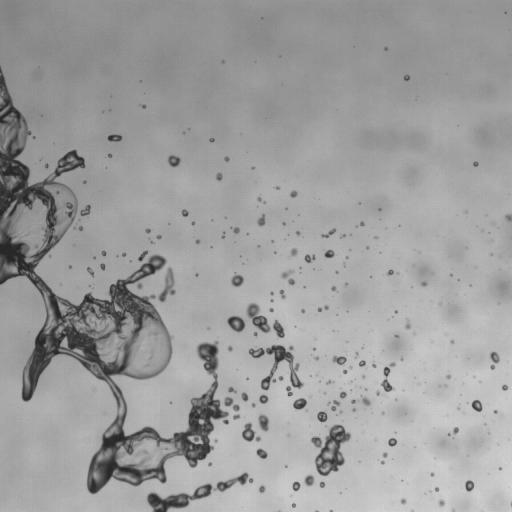droplet: (249, 344, 303, 396), (310, 424, 351, 476), (242, 422, 260, 441), (227, 316, 245, 332), (258, 414, 269, 431), (281, 270, 294, 284), (231, 273, 243, 287), (293, 398, 306, 410), (168, 155, 180, 167), (332, 355, 346, 365), (471, 400, 482, 411), (304, 474, 314, 486), (317, 411, 327, 422), (256, 448, 267, 458), (80, 205, 90, 215), (304, 254, 315, 263), (465, 480, 474, 491), (257, 215, 265, 226), (259, 394, 268, 403), (324, 250, 334, 258), (331, 400, 339, 410), (292, 481, 300, 491), (362, 396, 370, 405), (388, 438, 397, 446), (241, 392, 248, 401), (290, 248, 297, 256), (87, 267, 94, 275), (279, 290, 285, 299), (405, 319, 410, 329), (290, 190, 297, 197), (181, 209, 188, 216), (216, 173, 222, 180), (505, 214, 511, 221), (232, 227, 239, 233), (340, 392, 346, 399), (233, 413, 240, 419), (259, 485, 265, 492), (438, 499, 444, 506), (228, 387, 236, 392), (387, 269, 393, 275), (359, 360, 365, 366), (453, 427, 458, 434), (101, 250, 106, 256), (100, 263, 105, 269), (502, 384, 507, 390), (400, 498, 406, 503), (404, 75, 409, 80), (473, 161, 478, 166), (145, 228, 150, 233), (421, 281, 426, 286), (331, 286, 336, 291), (446, 374, 451, 379), (382, 452, 387, 457), (319, 482, 324, 487), (326, 380, 332, 384), (224, 157, 229, 161), (257, 197, 262, 201), (253, 331, 257, 336), (228, 346, 232, 351), (278, 376, 283, 380), (376, 391, 381, 395), (141, 104, 145, 108), (360, 222, 364, 226), (78, 226, 82, 230), (296, 231, 300, 235), (157, 235, 161, 239), (269, 308, 273, 312), (301, 309, 305, 313), (343, 369, 347, 373), (430, 472, 434, 476), (222, 233, 225, 238), (372, 362, 375, 367), (341, 234, 345, 237), (196, 239, 199, 243), (122, 253, 126, 256), (355, 353, 358, 357), (314, 356, 318, 359), (251, 403, 255, 406), (435, 487, 438, 491), (292, 503, 295, 507), (210, 138, 213, 141), (45, 164, 48, 167), (275, 186, 278, 189), (450, 340, 453, 343), (400, 357, 403, 360), (351, 400, 354, 403), (494, 410, 497, 413), (214, 439, 217, 442), (381, 461, 384, 464), (208, 462, 211, 465), (108, 154, 111, 156), (192, 222, 194, 225), (344, 283, 347, 285), (270, 292, 273, 294), (499, 467, 501, 470), (150, 240, 152, 242), (396, 335, 398, 337), (349, 366, 351, 368), (362, 375, 364, 377)
ligament: (0, 66, 239, 491), (146, 472, 253, 511), (246, 303, 284, 337), (380, 362, 395, 392), (490, 352, 499, 369), (107, 134, 122, 141), (322, 229, 335, 237), (138, 250, 147, 261), (318, 305, 328, 311), (451, 510, 455, 511), (315, 510, 318, 511), (329, 510, 332, 511)
